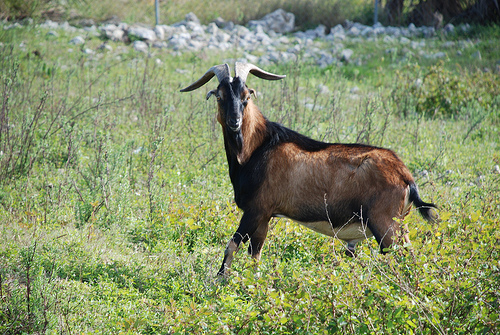goat: (179, 60, 442, 278)
